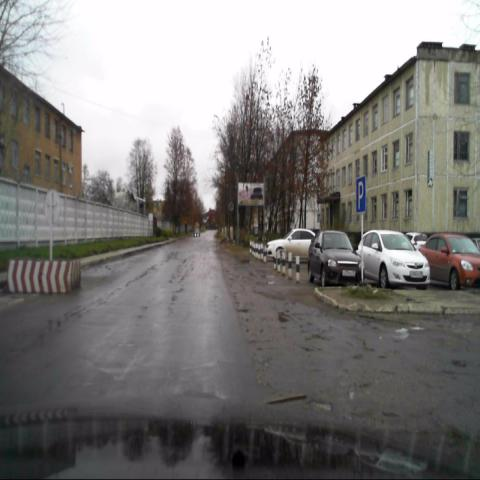6_4: (356, 176, 366, 213)
